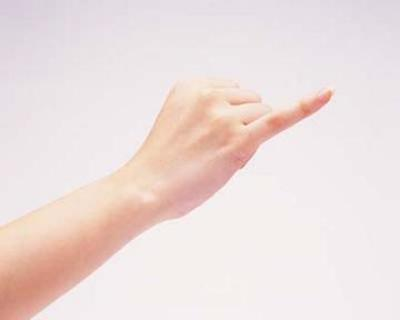closedhandfront: (243, 85, 351, 148)
